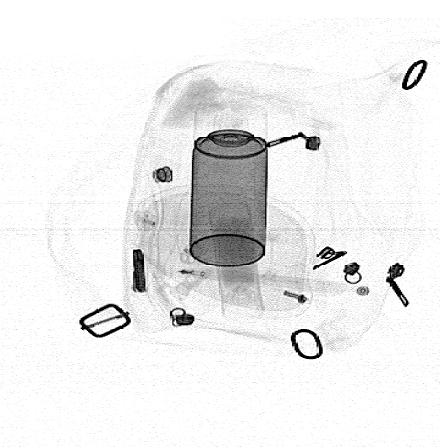Sprayer: (189, 100, 268, 268)
